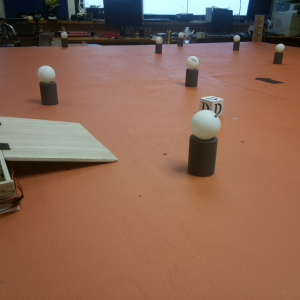blockD: (199, 96, 224, 115)
corner: (253, 15, 260, 43)
obstacle: (191, 110, 217, 179), (36, 65, 60, 106), (185, 56, 200, 87), (275, 43, 284, 66), (154, 36, 164, 54), (232, 35, 241, 53), (60, 31, 69, 48), (178, 31, 184, 46)
side: (1, 174, 30, 218)
slope: (4, 114, 115, 179)
start: (254, 73, 282, 87)
